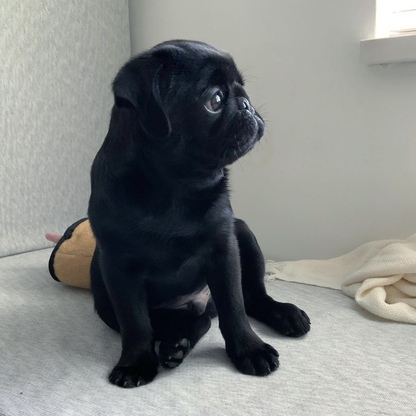Pug: (83, 35, 316, 392)
